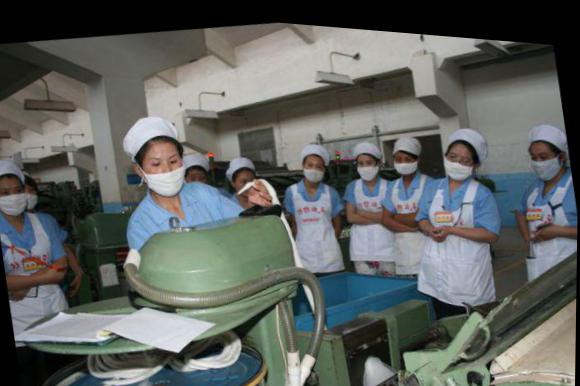NONE: (233, 169, 261, 194), (187, 167, 209, 191)
OK: (522, 128, 569, 176), (443, 139, 477, 177), (1, 179, 30, 222), (394, 143, 421, 171), (16, 183, 40, 212), (357, 148, 381, 176), (304, 156, 328, 180)
WRONG: (143, 146, 189, 195)
